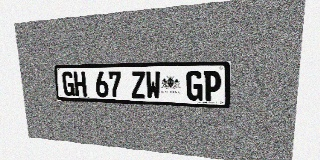6: (95, 71, 109, 97)
7: (108, 71, 122, 98)
G: (186, 71, 203, 101), (62, 72, 75, 96)
H: (73, 72, 87, 97)
P: (203, 70, 221, 101)
W: (145, 71, 161, 99)
Z: (131, 71, 146, 99)
